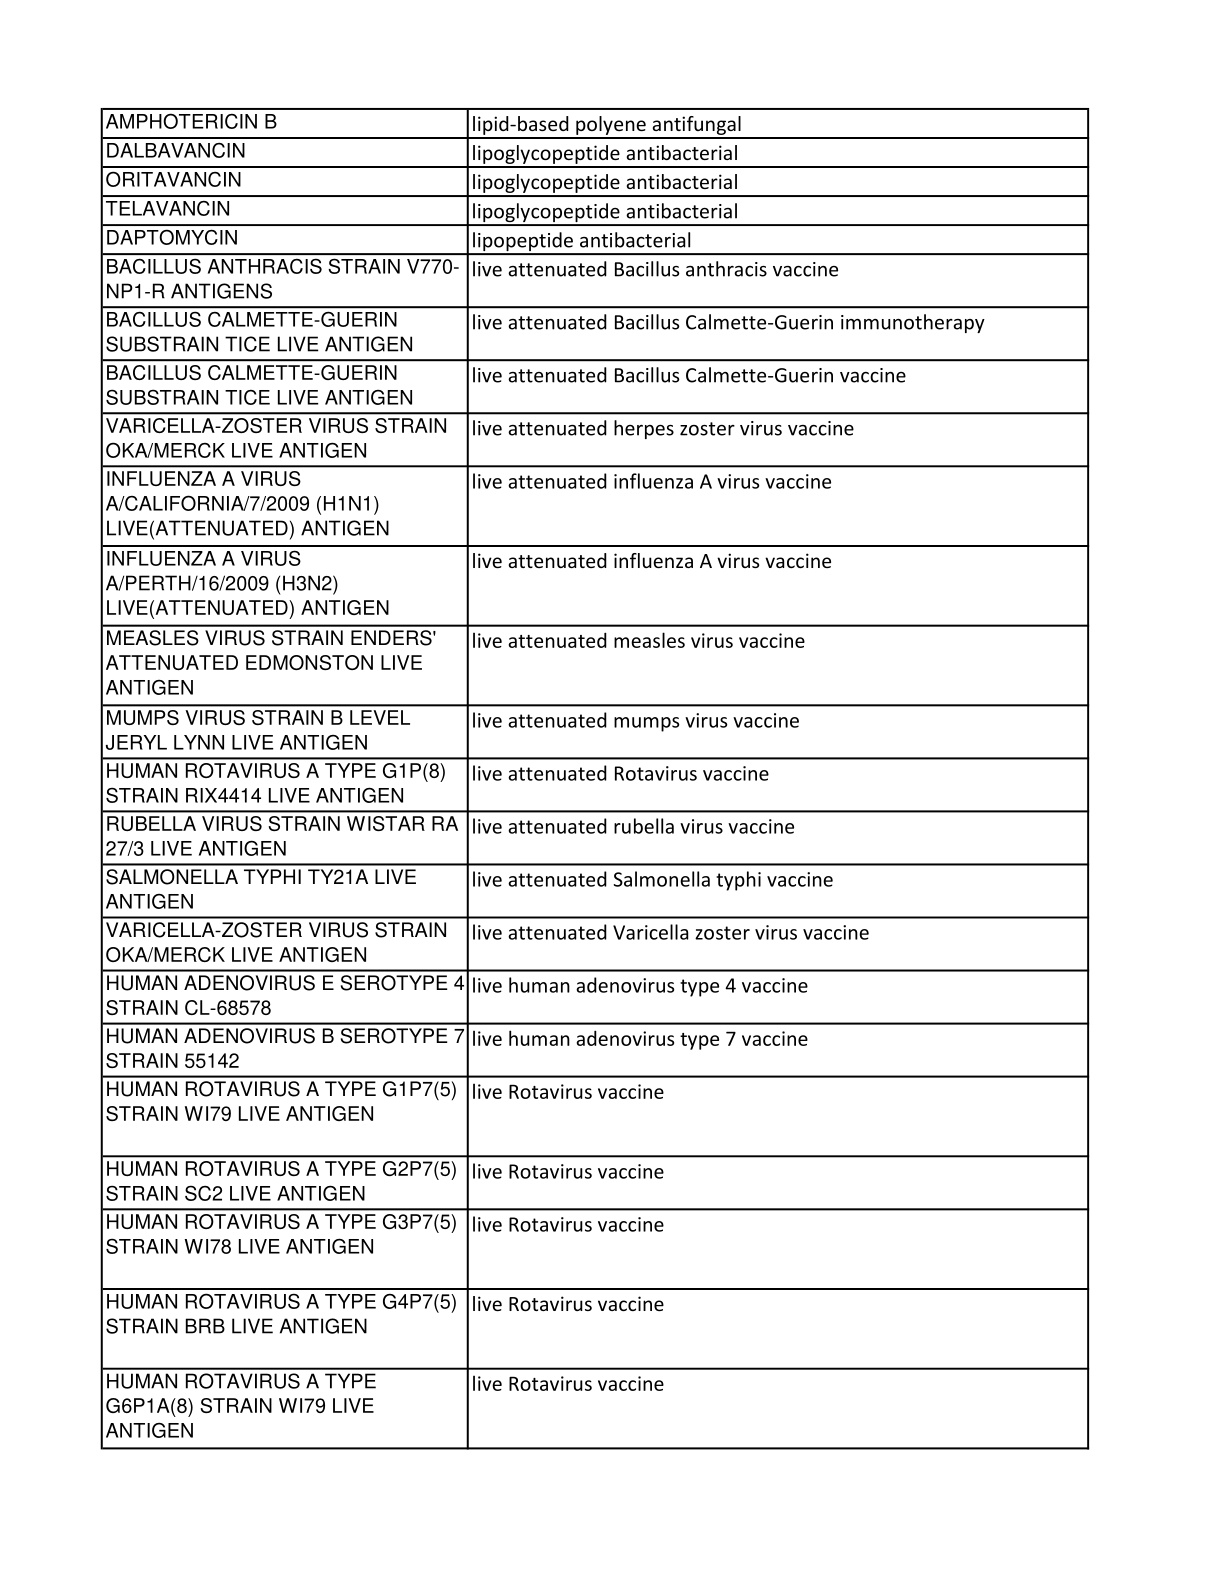full_lined: (100, 107, 1090, 1450)
